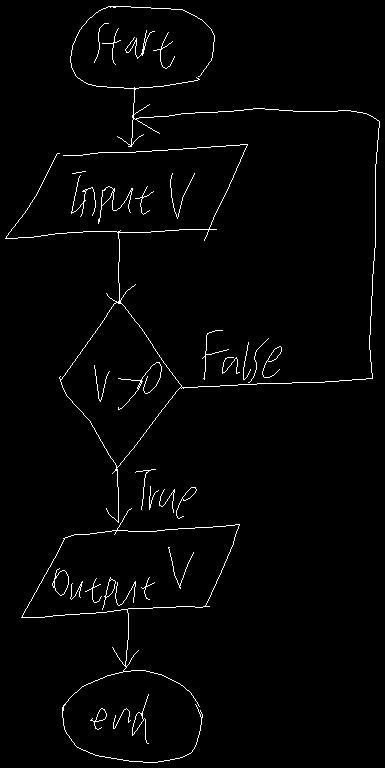arrow: (132, 104, 379, 387), (106, 230, 135, 303), (106, 467, 131, 534), (112, 610, 138, 672), (117, 87, 143, 146)
data: (5, 144, 247, 240), (21, 524, 239, 617)
decision: (59, 300, 183, 473)
terminator: (62, 670, 202, 762), (70, 6, 214, 88)
text: (52, 547, 193, 609), (71, 171, 194, 223), (202, 330, 281, 382), (94, 23, 174, 68), (94, 362, 161, 409), (135, 469, 196, 518), (90, 694, 148, 743)
